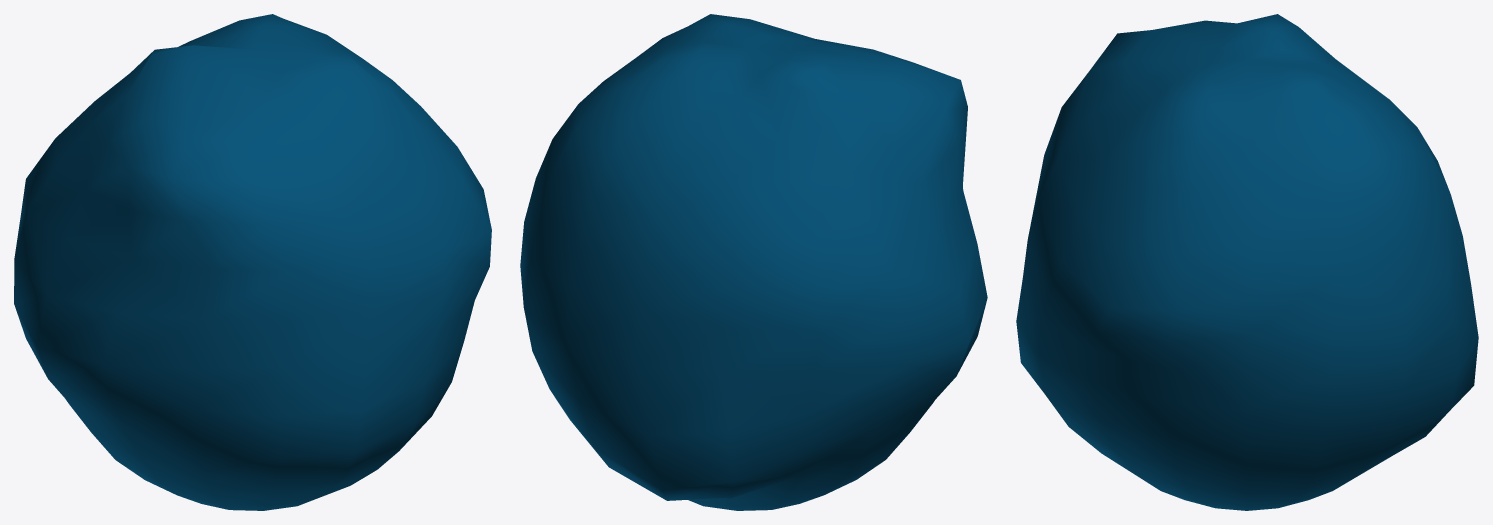
Rendered from cloud_smooth.fbx.
3 renders of one model, left to right at view 1: azimuth 30°, elevation 25°; view 2: azimuth 150°, elevation 25°; view 3: azimuth 270°, elevation 25°, orthographic. The views are drawn at different scales.
Visible parts, largest first — view 1: cloud_smooth; view 2: cloud_smooth; view 3: cloud_smooth.
Part boxes in pixels (bbox=[...]): cloud_smooth: bbox=[14, 14, 491, 510]; cloud_smooth: bbox=[520, 14, 987, 510]; cloud_smooth: bbox=[1016, 14, 1478, 510].
Size of the model in its own units: 32.91 by 34.06 by 32.37.
